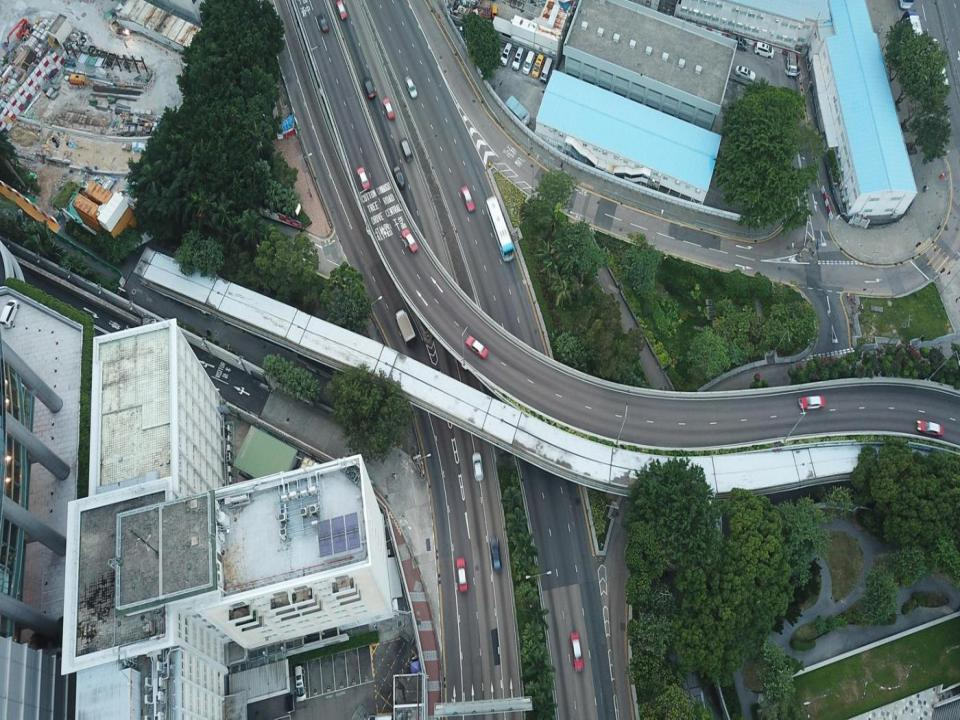bus: (901, 11, 932, 90), (486, 196, 516, 263), (930, 35, 950, 90), (897, 0, 914, 11)
car: (567, 632, 586, 672), (0, 298, 21, 330), (466, 334, 488, 358), (916, 417, 944, 435), (456, 556, 468, 596), (402, 229, 419, 253), (472, 452, 484, 484), (361, 76, 376, 100), (391, 165, 405, 190), (399, 138, 413, 162), (404, 74, 417, 99), (462, 185, 474, 212), (736, 63, 755, 80), (356, 166, 369, 190), (799, 396, 823, 409), (383, 96, 395, 121), (315, 13, 328, 33), (335, 0, 347, 21)
van: (394, 309, 417, 347), (292, 662, 308, 702), (753, 38, 775, 61), (490, 536, 502, 573), (785, 51, 800, 78), (730, 32, 748, 52), (531, 52, 543, 80), (540, 55, 552, 82), (522, 50, 535, 74), (501, 41, 512, 67), (512, 46, 522, 73)
